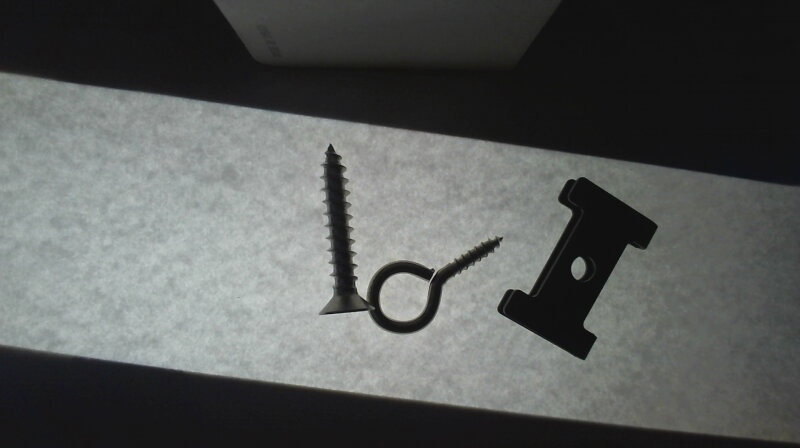O001: (365, 234, 506, 335)
O002: (499, 172, 658, 363)
S001: (316, 142, 375, 319)
